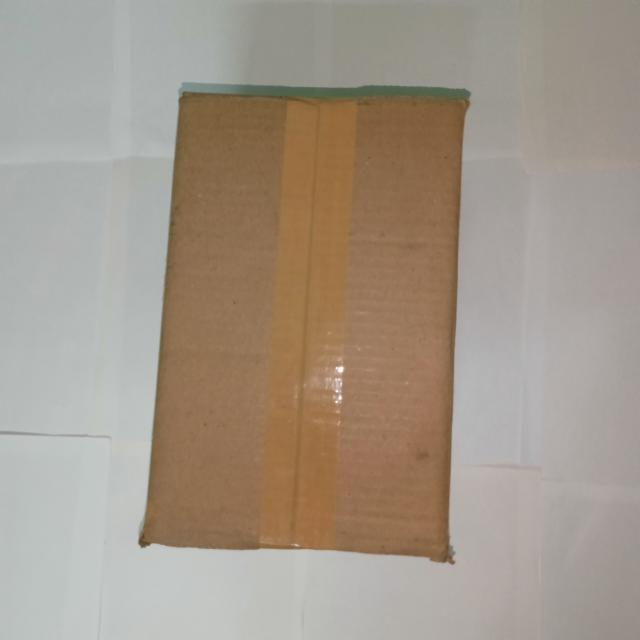box: (143, 93, 464, 553)
